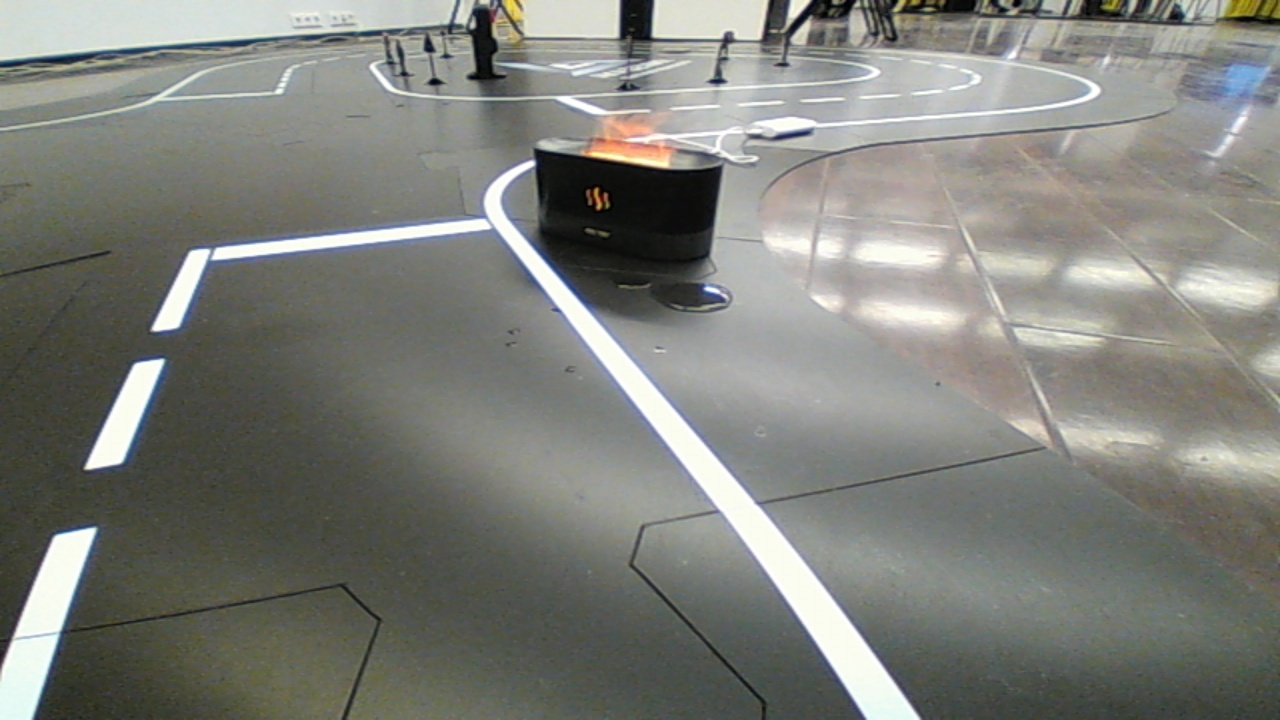Movement prohibition: (522, 117, 742, 282)
